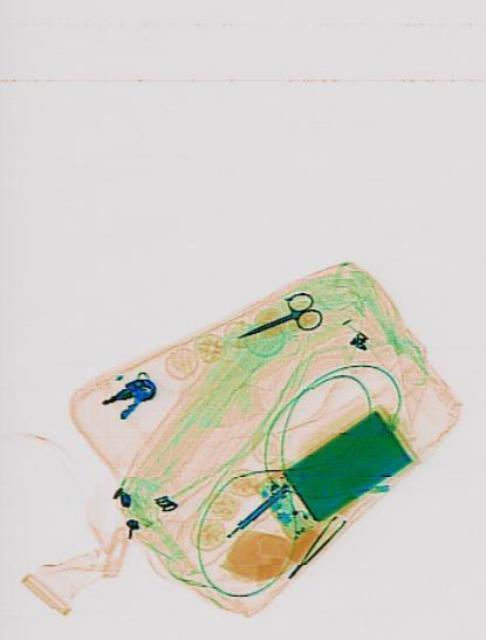Scissors: (228, 282, 322, 358)
